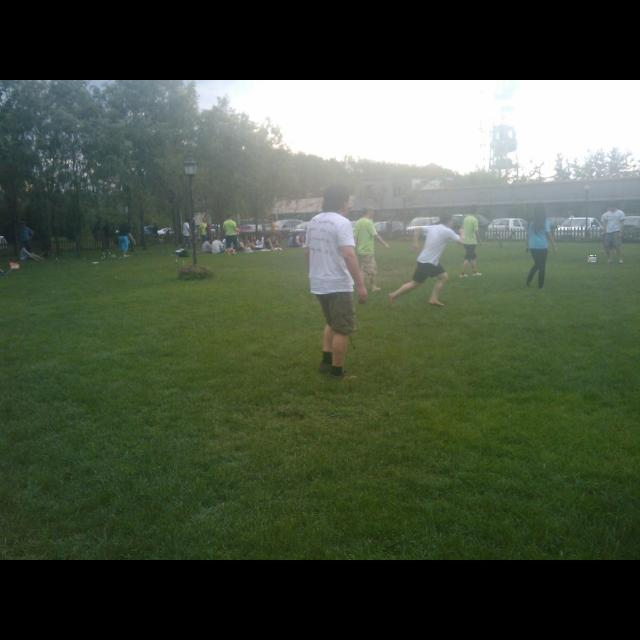Football: (588, 256, 596, 262)
